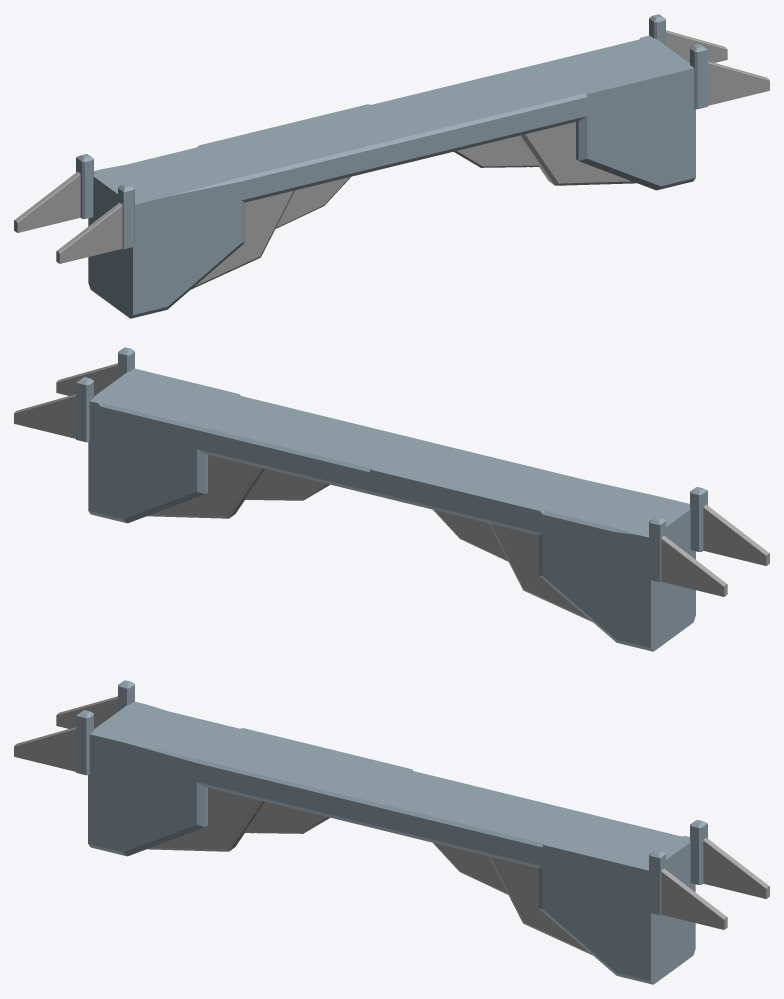
File: BigBridge.fbx
3 views of the same model, one above another, from view 1: azimuth 30°, elevation 25°; view 2: azimuth 150°, elevation 25°; view 3: azimuth 330°, elevation 25° (orthographic).
Parts seen in each view (by area): view 1: BigBridge, pCube40 (×4), pCube32 (×2), pCube34 (×2), Railing_Pole_End14 (×3); view 2: BigBridge, pCube40 (×4), pCube32 (×2), pCube34 (×2), Railing_Pole_End14 (×3); view 3: BigBridge, pCube40 (×4), pCube32 (×2), pCube34 (×2), Railing_Pole_End14 (×3).
Boxes of the visible parts, <box> form: BigBridge: <box>88,35,695,318</box>; pCube40 (×4): <box>14,30,769,263</box>; pCube32 (×2): <box>191,122,636,289</box>; pCube34 (×2): <box>275,136,539,228</box>; Railing_Pole_End14 (×3): <box>76,44,707,249</box>; BigBridge: <box>88,368,695,651</box>; pCube40 (×4): <box>14,363,769,596</box>; pCube32 (×2): <box>147,455,591,621</box>; pCube34 (×2): <box>244,469,508,561</box>; Railing_Pole_End14 (×3): <box>76,377,707,582</box>; BigBridge: <box>88,701,695,984</box>; pCube40 (×4): <box>14,696,769,929</box>; pCube32 (×2): <box>147,788,592,955</box>; pCube34 (×2): <box>244,802,508,894</box>; Railing_Pole_End14 (×3): <box>76,710,707,915</box>.
Size of the model in its own units: 36.66 by 6.64 by 4.26.
